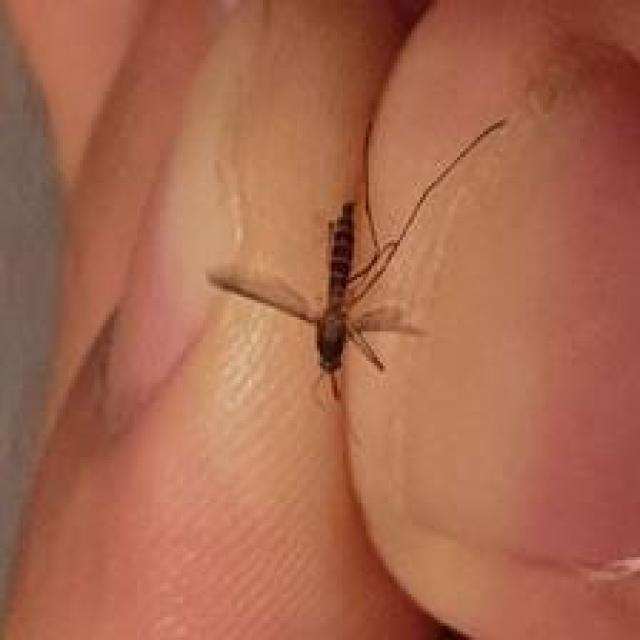Culex: (204, 116, 507, 407)
